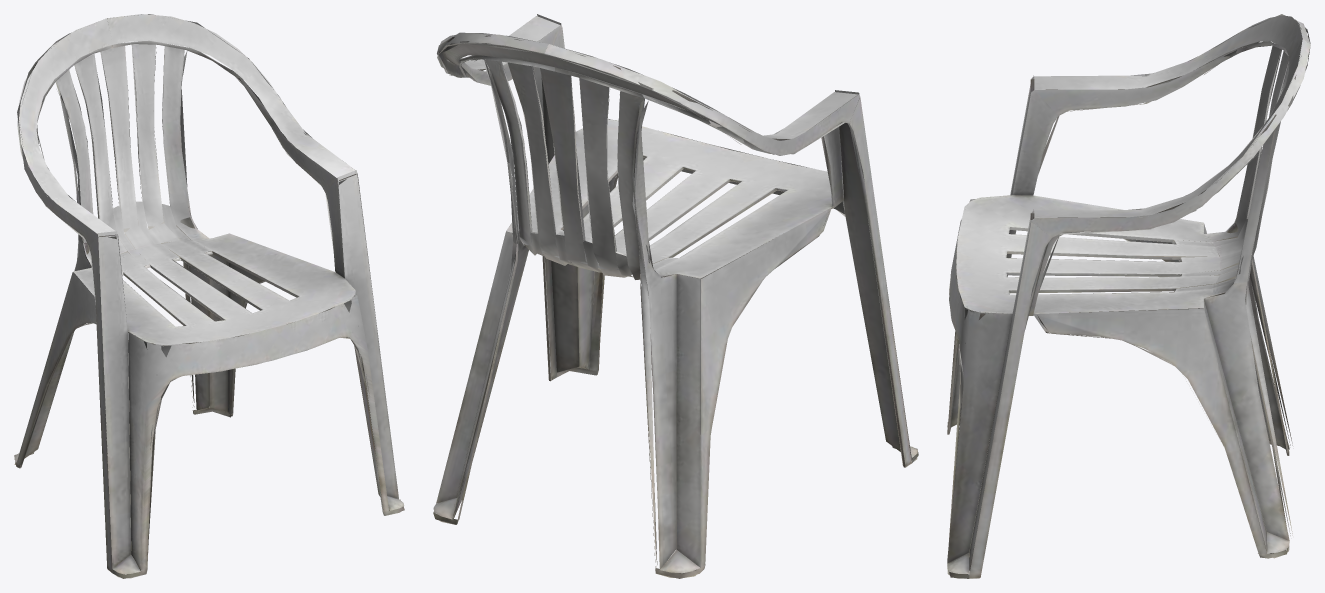
File: plastic_monobloc_chair_01_1k.gltf
3 renders of one model, left to right at view 1: azimuth 30°, elevation 25°; view 2: azimuth 150°, elevation 25°; view 3: azimuth 270°, elevation 25°, orthographic. The views are drawn at different scales.
Parts seen in each view (by area): view 1: plastic_monobloc_chair_01_LOD0; view 2: plastic_monobloc_chair_01_LOD0; view 3: plastic_monobloc_chair_01_LOD0.
Boxes of the visible parts, left/top/right/bottom form: plastic_monobloc_chair_01_LOD0: left=14, top=14, right=404, bottom=578; plastic_monobloc_chair_01_LOD0: left=433, top=14, right=918, bottom=578; plastic_monobloc_chair_01_LOD0: left=947, top=14, right=1310, bottom=578.
Size of what is drawn, in the model's own units: 0.6455 by 0.8811 by 0.6284.
1 material, 1 textured.
